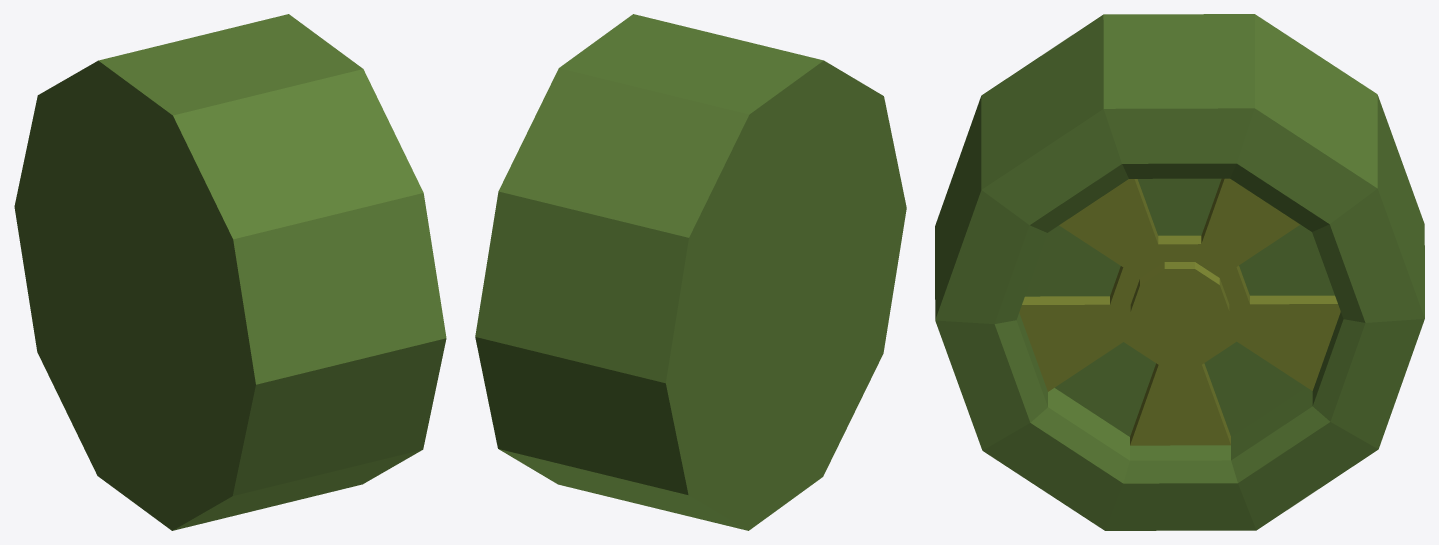
The model's file is Wheel_01.fbx.
3 views of the same model, side by side, from view 1: azimuth 30°, elevation 25°; view 2: azimuth 150°, elevation 25°; view 3: azimuth 270°, elevation 25° (orthographic).
Visible parts, largest first — view 1: Wheel_01; view 2: Wheel_01; view 3: Wheel_01.
Part boxes in pixels (box(x1,y1,x2,y2)): Wheel_01: box(14, 14, 446, 530); Wheel_01: box(475, 14, 906, 530); Wheel_01: box(935, 14, 1424, 530).
Bounding box in the file's own units: 0.2755 × 0.5518 × 0.5797.
